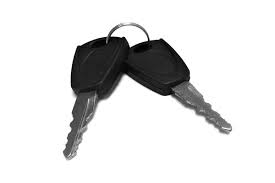kicharina: (60, 32, 131, 162)
